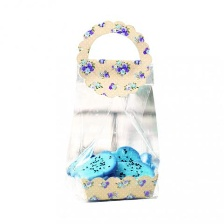snack: (57, 12, 169, 208)
